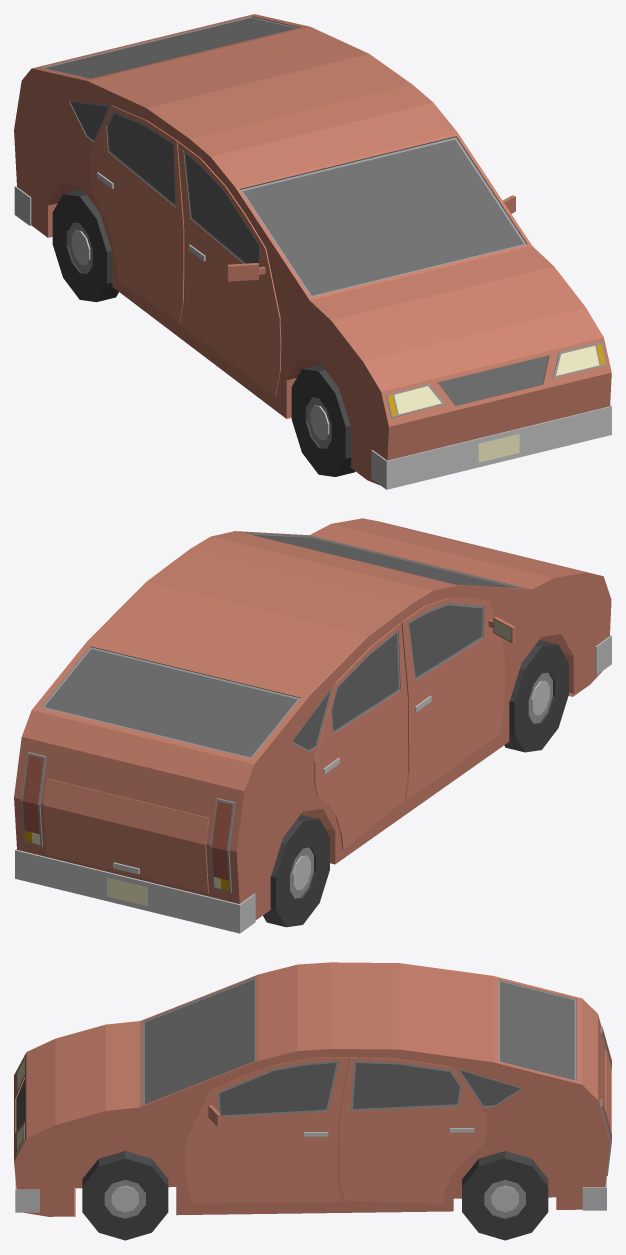
File: car of the future_1.fbx
The picture shows the model from 3 angles, top to bottom: view 1: azimuth 30°, elevation 25°; view 2: azimuth 150°, elevation 25°; view 3: azimuth 270°, elevation 25°; orthographic projection. The views are drawn at different scales.
Parts seen in each view (by area): view 1: fs, Cylinder_2_3, Cylinder_2_1; view 2: fs, Cylinder_2_3, Cylinder_2_1; view 3: fs, Cylinder_2_2, Cylinder_2.
Part boxes in pixels (left/top/right/bottom): fs: left=14, top=14, right=611, bottom=489; Cylinder_2_3: left=52, top=189, right=118, bottom=302; Cylinder_2_1: left=291, top=364, right=355, bottom=476; fs: left=14, top=518, right=611, bottom=933; Cylinder_2_3: left=263, top=814, right=329, bottom=927; Cylinder_2_1: left=504, top=640, right=568, bottom=752; fs: left=14, top=962, right=611, bottom=1216; Cylinder_2_2: left=462, top=1151, right=548, bottom=1240; Cylinder_2: left=82, top=1151, right=168, bottom=1240.
Bounding box in the file's own units: 169 × 135 × 383.
